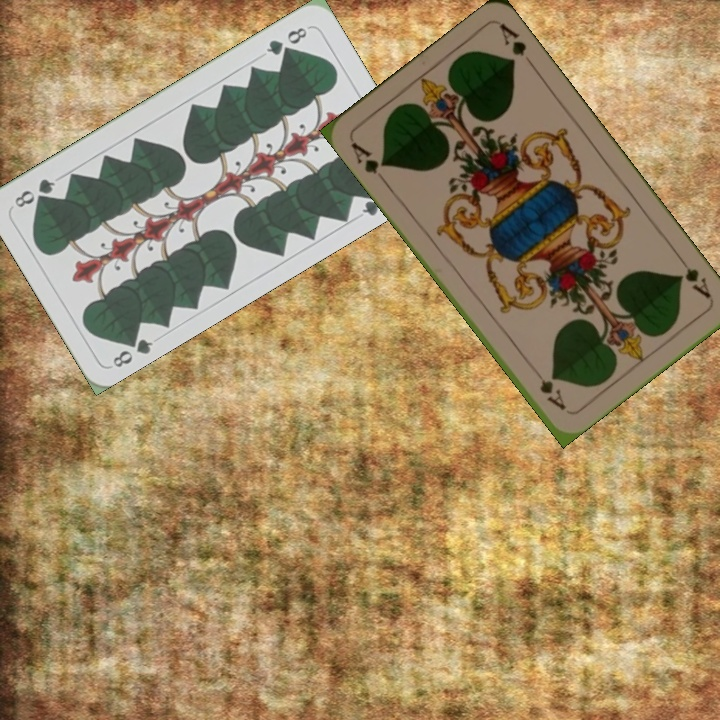G8: (108, 329, 156, 371), (262, 23, 310, 58)
GA: (346, 138, 389, 186), (674, 251, 714, 301)
